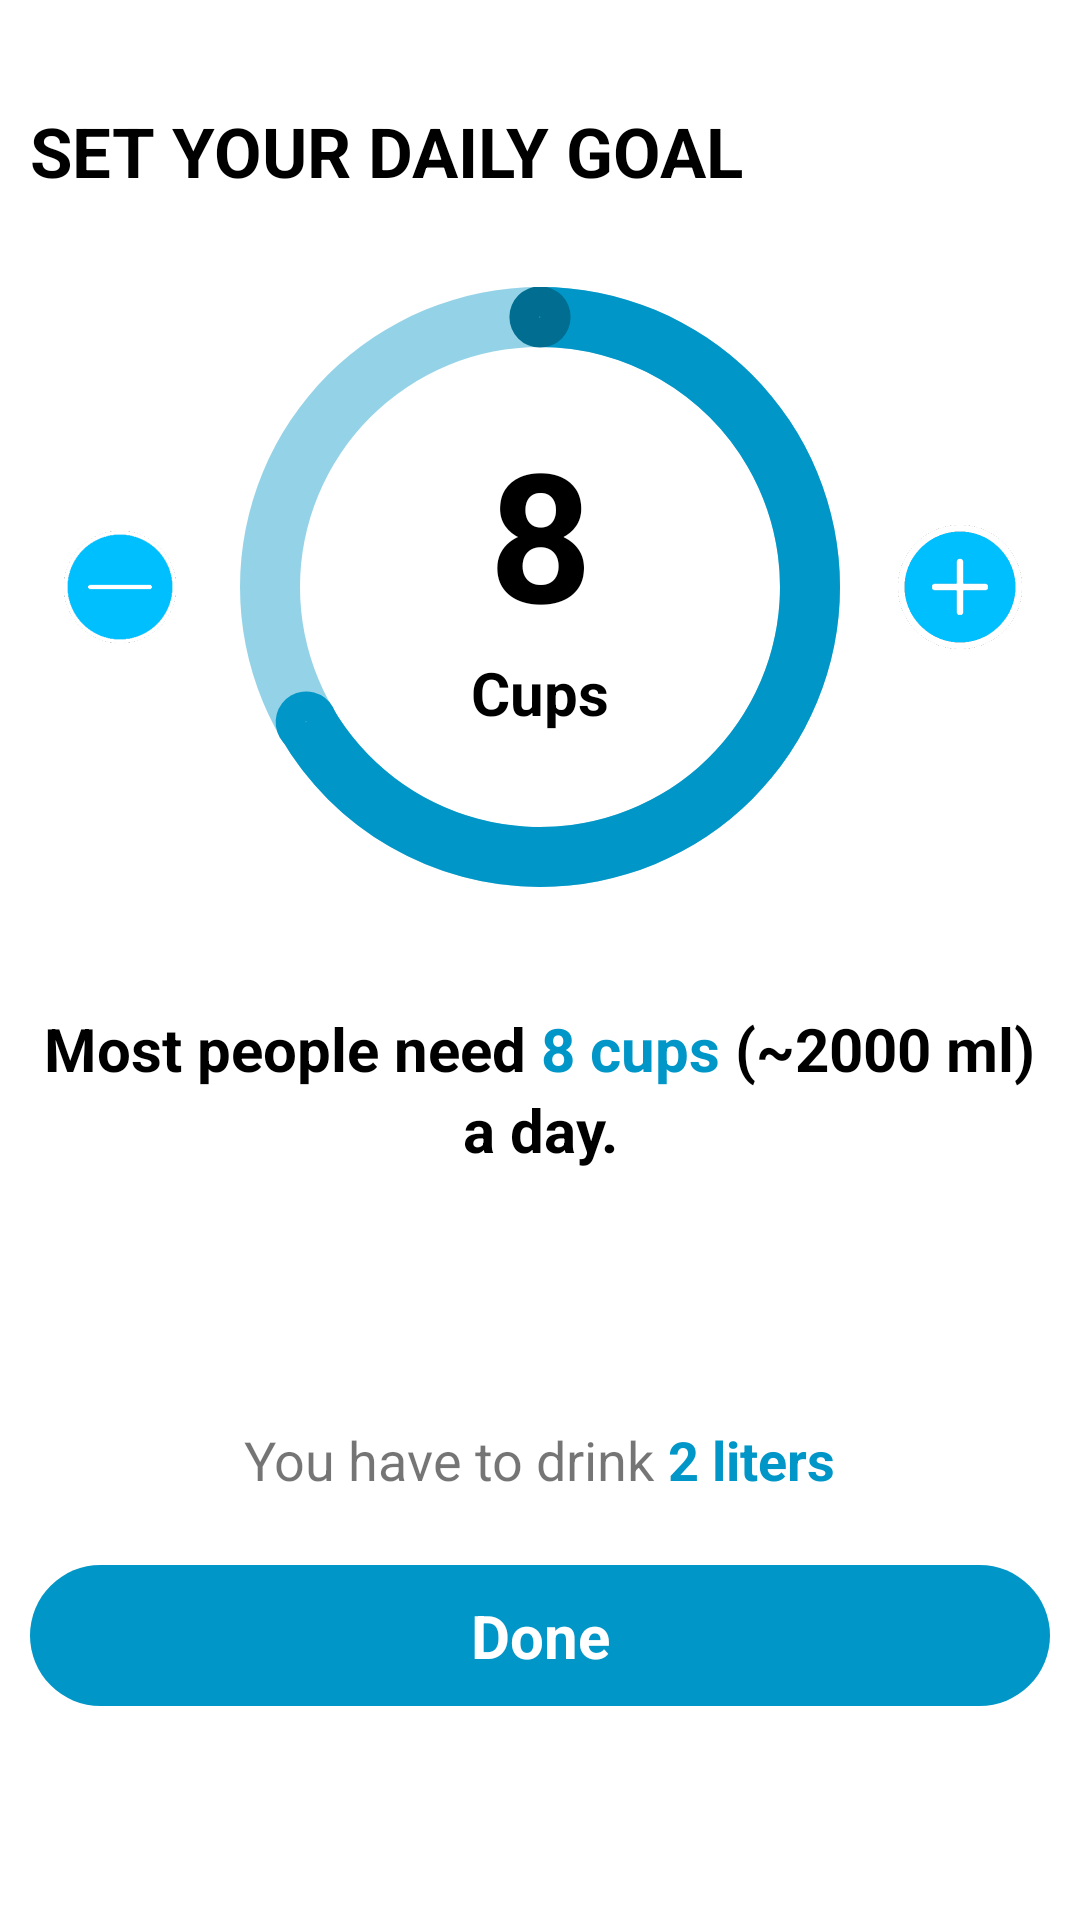

Named icons in this screenshot (1080px×1920px) and their bounding boxes, bbox=(x1, y1, x2, y2):
minus anim: bbox=(64, 531, 176, 643)
plus button: bbox=(898, 525, 1022, 649)
